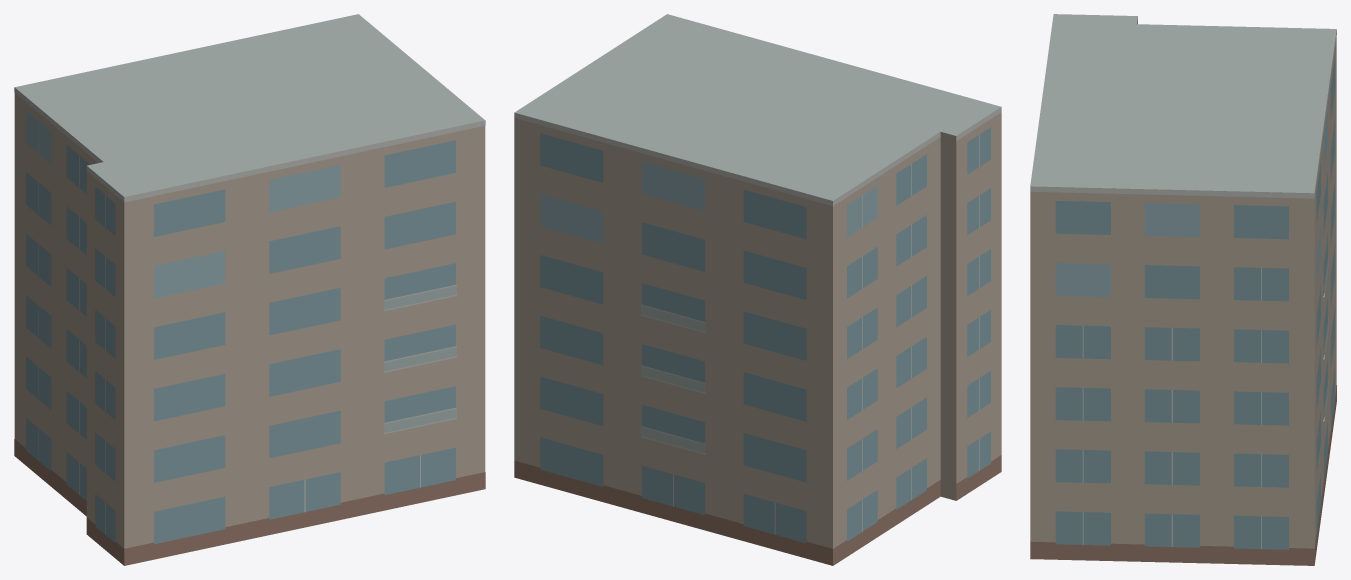
The model's file is survey-upis-32665498.glb.
The picture shows the model from 3 angles, left to right: view 1: azimuth 30°, elevation 25°; view 2: azimuth 150°, elevation 25°; view 3: azimuth 270°, elevation 25°; orthographic projection. The views are drawn at different scales.
Visible parts, largest first — view 1: survey-upis-32665498.tmp; view 2: survey-upis-32665498.tmp; view 3: survey-upis-32665498.tmp.
Part boxes in pixels (x1,y1,x2,y2): survey-upis-32665498.tmp: [14, 14, 485, 565]; survey-upis-32665498.tmp: [514, 14, 1001, 565]; survey-upis-32665498.tmp: [1030, 14, 1336, 565].
Size of the model in its own units: 17.54 by 17 by 12.69.
